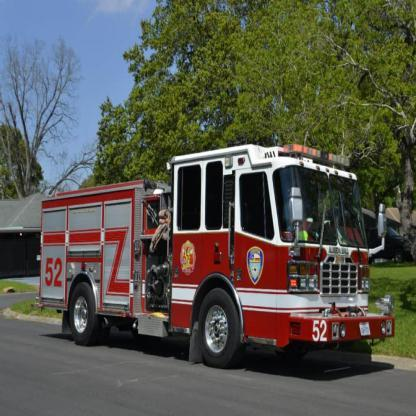fire-truck: (28, 89, 388, 369)
